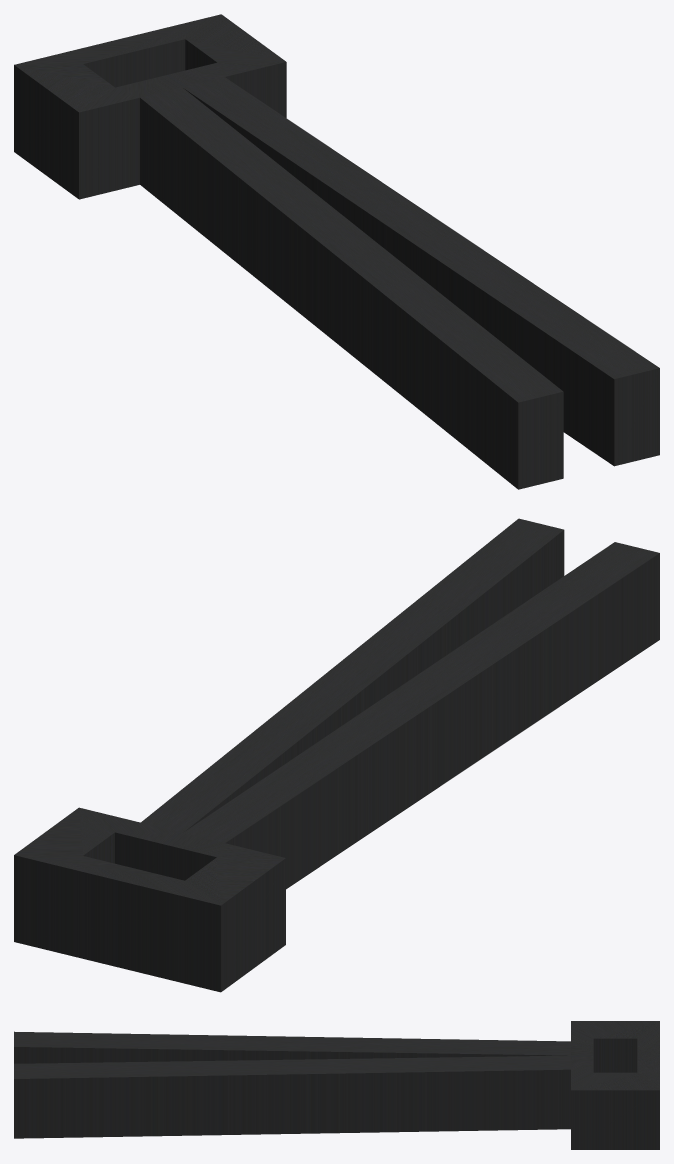
File: Firing_Pin_Retaining_Pin.dae
3 views of the same model, one above another, from view 1: azimuth 30°, elevation 25°; view 2: azimuth 150°, elevation 25°; view 3: azimuth 270°, elevation 25° (orthographic). The views are drawn at different scales.
Visible parts, largest first — view 1: Firing_Pin_Retaining_Pin; view 2: Firing_Pin_Retaining_Pin; view 3: Firing_Pin_Retaining_Pin.
Part boxes in pixels (bbox=[...]): Firing_Pin_Retaining_Pin: bbox=[14, 14, 659, 489]; Firing_Pin_Retaining_Pin: bbox=[14, 518, 659, 992]; Firing_Pin_Retaining_Pin: bbox=[14, 1021, 659, 1149].
Size of the model in its own units: 0.00514 by 0.0203 by 0.00206.
Materials: 1 (1 with a texture image).
